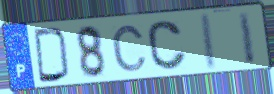8: (76, 24, 107, 80)
C: (146, 19, 189, 72), (110, 24, 149, 74)
D: (32, 27, 72, 84)
I: (236, 9, 258, 67), (201, 12, 219, 73)
